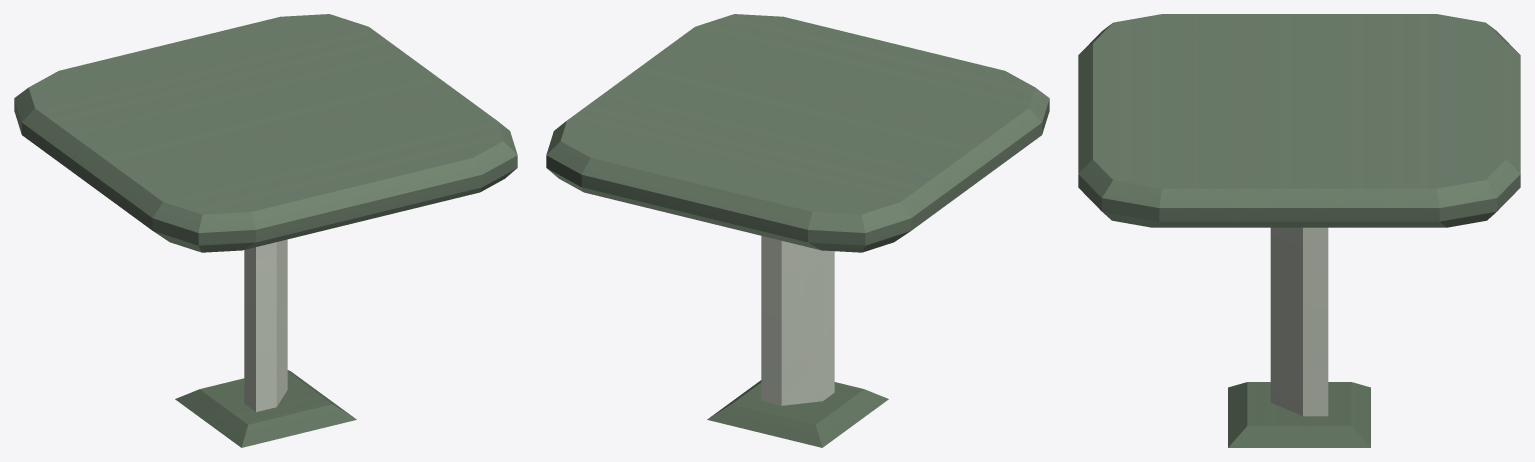
The model's file is cafe_table.glb.
The picture shows the model from 3 angles, left to right: view 1: azimuth 30°, elevation 25°; view 2: azimuth 150°, elevation 25°; view 3: azimuth 270°, elevation 25°; orthographic projection. The views are drawn at different scales.
Visible parts, largest first — view 1: Plane.002_Material_0; view 2: Plane.002_Material_0; view 3: Plane.002_Material_0.
Boxes of the visible parts, x1,y1,x2,y2 form: Plane.002_Material_0: (14,14,517,447); Plane.002_Material_0: (546,14,1049,447); Plane.002_Material_0: (1078,14,1520,447).
Size of the model in its own units: 100 by 78.88 by 100.
Materials: 1 (1 with a texture image).
